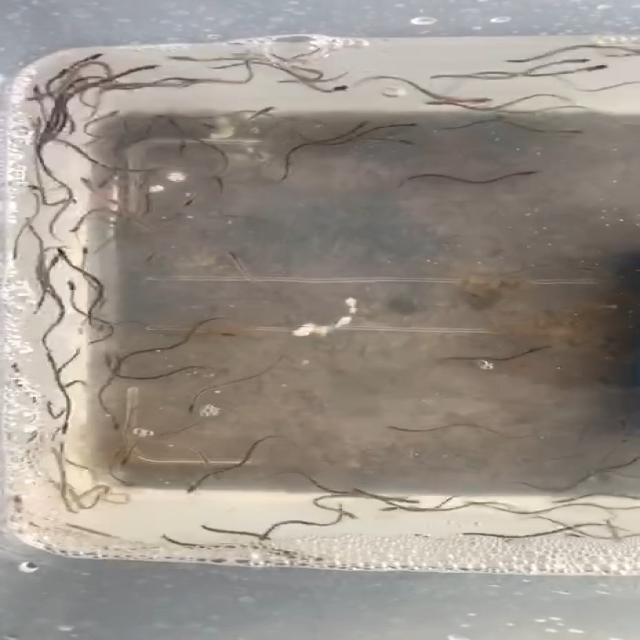inactive_glass_eel: (511, 160, 550, 187), (523, 339, 561, 360), (413, 95, 465, 110), (446, 528, 494, 544), (30, 111, 58, 137), (151, 109, 186, 129), (397, 135, 439, 151), (244, 101, 278, 120), (386, 115, 429, 130), (192, 519, 229, 536), (458, 93, 498, 108), (504, 53, 540, 69), (93, 350, 127, 366), (39, 448, 67, 467), (55, 276, 88, 292), (346, 117, 383, 131), (374, 420, 411, 434), (157, 530, 189, 546), (374, 502, 399, 522), (345, 484, 380, 498), (60, 222, 92, 237), (104, 418, 134, 434), (543, 495, 583, 507), (49, 441, 77, 458), (118, 474, 144, 492), (566, 126, 594, 142), (193, 120, 225, 134), (18, 180, 52, 193), (41, 249, 58, 274), (74, 53, 121, 62), (23, 82, 51, 97), (71, 243, 97, 259), (180, 482, 213, 494), (582, 61, 608, 76), (168, 50, 198, 63), (178, 194, 204, 209), (336, 506, 360, 522), (99, 108, 129, 120), (181, 400, 201, 418), (138, 62, 170, 73), (48, 67, 82, 77), (204, 61, 228, 75), (202, 178, 226, 192), (54, 416, 75, 432), (78, 168, 94, 188), (52, 244, 72, 260), (114, 455, 140, 467), (212, 331, 242, 341), (226, 242, 238, 266), (326, 84, 361, 92), (22, 212, 42, 224), (561, 56, 594, 63)
